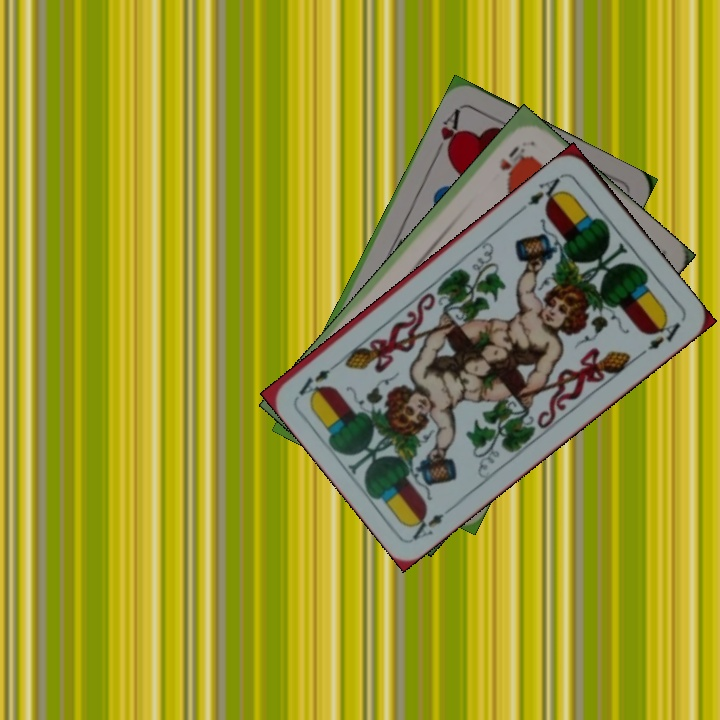EA: (404, 500, 459, 543), (517, 170, 567, 213)
HA: (436, 104, 464, 159)
HO: (495, 142, 528, 173)
